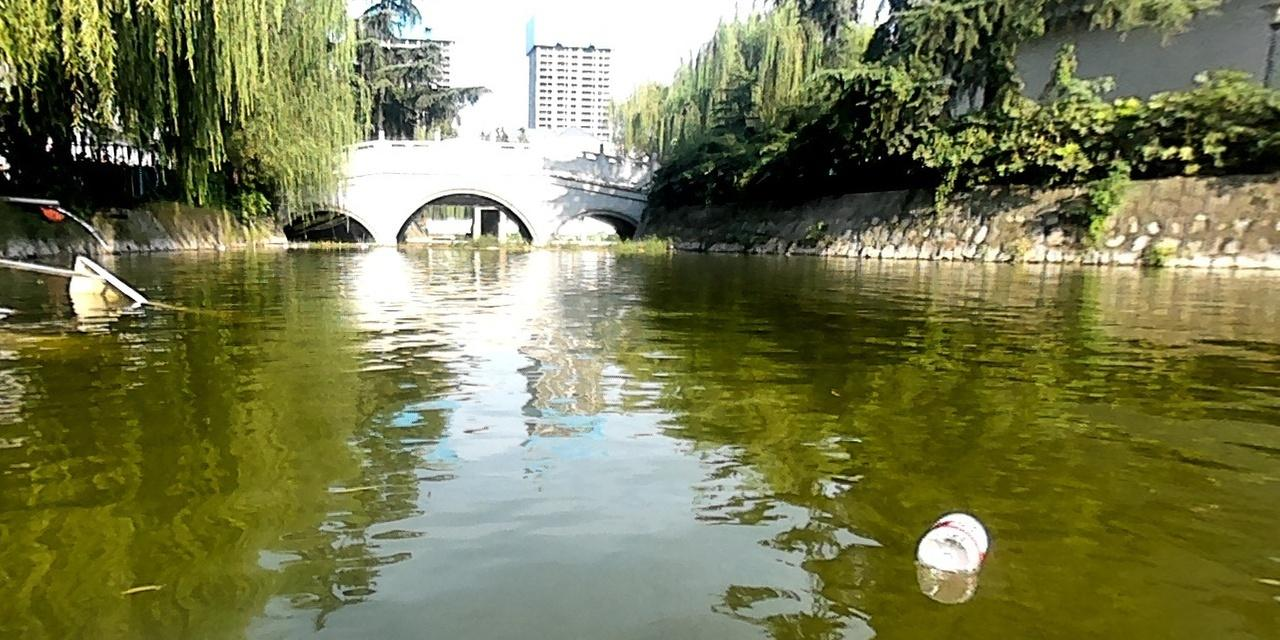bottle: (915, 510, 989, 569)
